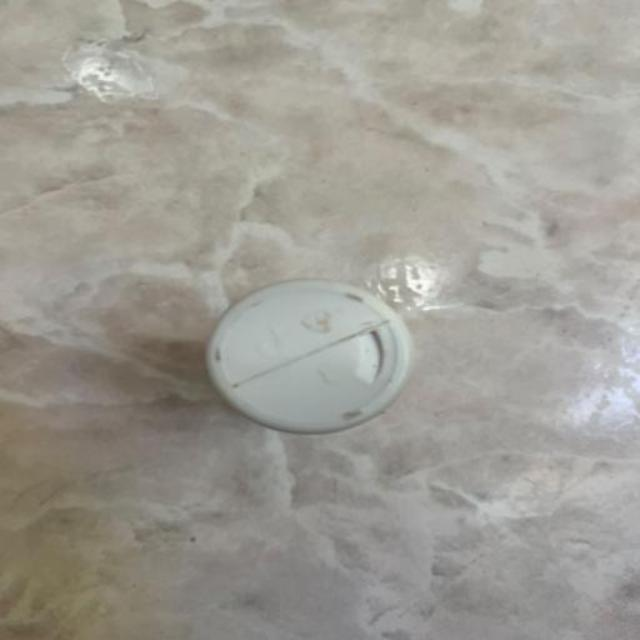HDPE: (137, 195, 519, 529)
